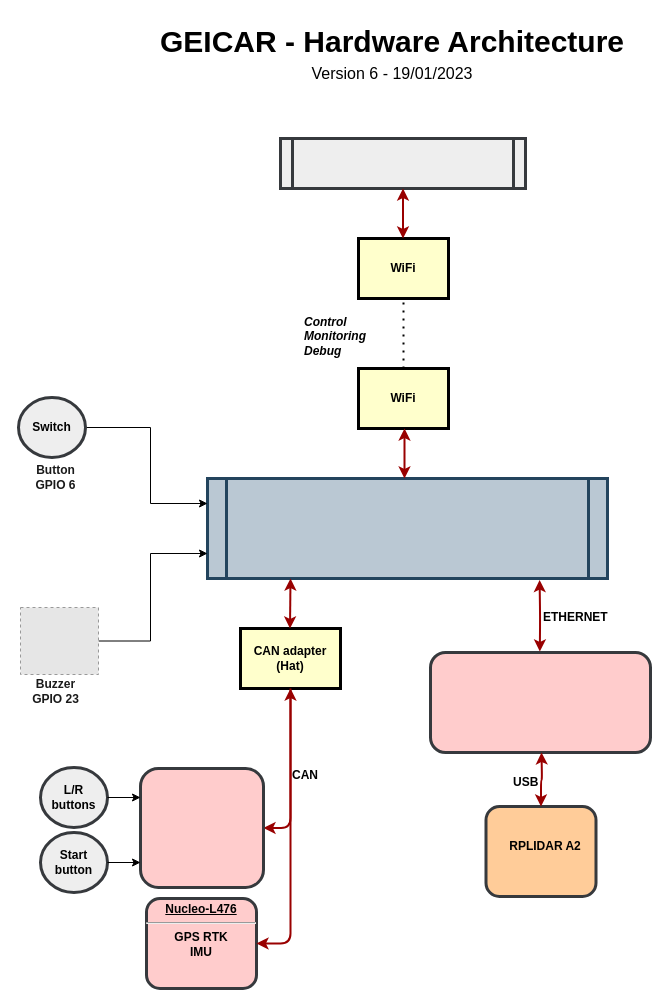
Image size: 669x1007. Some labels were removed from this diagram. Grey dashed boxes stand in for pictures. Here are the shapes that lost their labels. From the top down, the centre of each, then its label:
At point (402, 163): "COMPUTER (ground)".
At point (407, 528): "Raspberry PI 4 [ Ubuntu Server 22.04 ] [ ROS2 Humble ] [ Pican 2 ]".
At point (540, 702): "JETSON Nano [ Ubuntu 18.04] [ ROS2 Humble (docker) ] [ SDK RPLidar ]".
At point (201, 827): "Nucleo-F103 Power Propulsion Steering Ultrasonic sensors Odometry Battery".
